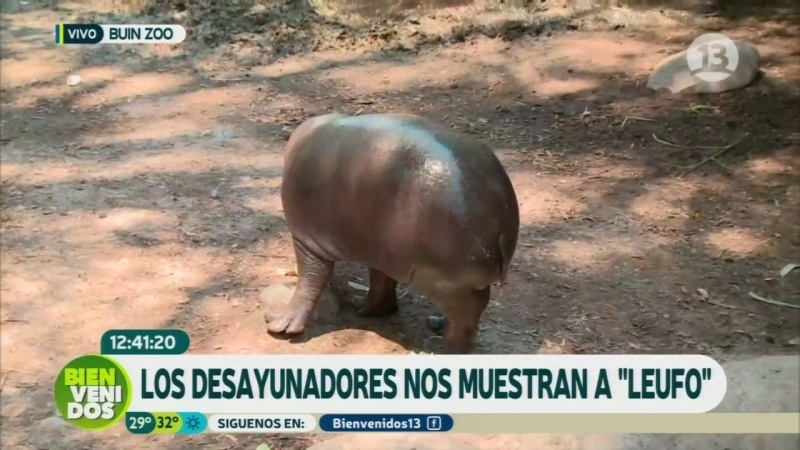hipopotamo: (255, 95, 547, 351)
